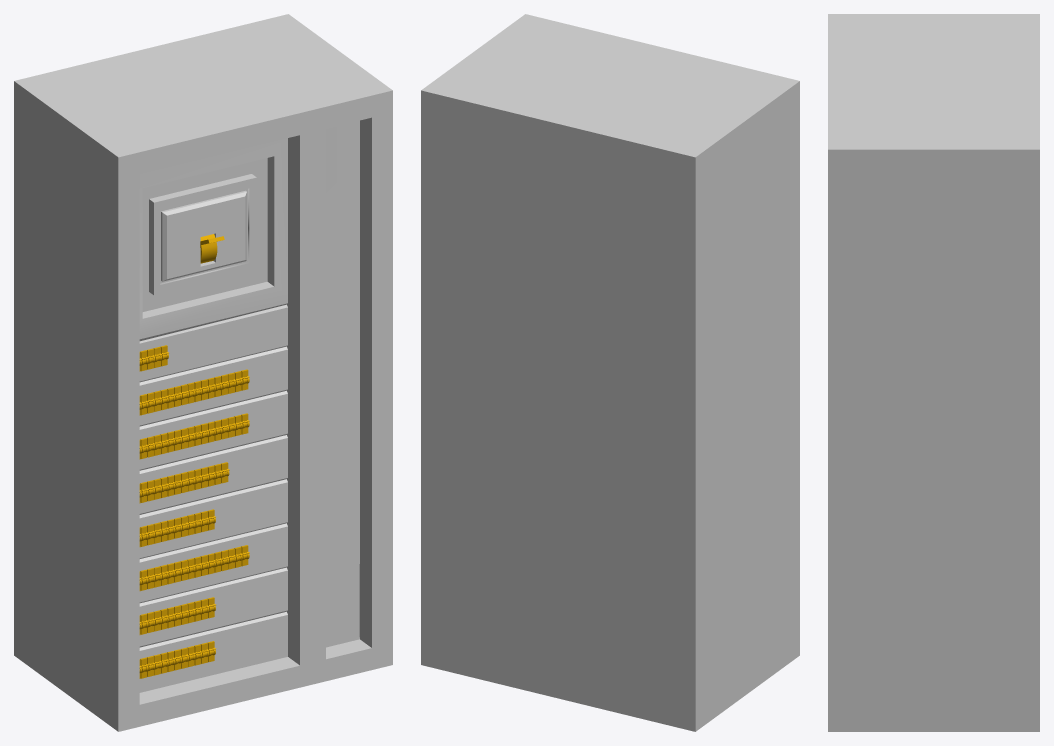
File: S_Disjoncteur2.fbx
The picture shows the model from 3 angles, left to right: view 1: azimuth 30°, elevation 25°; view 2: azimuth 150°, elevation 25°; view 3: azimuth 270°, elevation 25°; orthographic projection.
Visible parts, largest first — view 1: 001.003, 001.004, Cube.082, Cube.081, Cube.083, Cube.080; view 2: 001.003, 001.004; view 3: 001.003, 001.004.
Boxes of the visible parts, box(x1,y1,x2,y2) form: 001.003: box(14, 14, 379, 722); 001.004: box(105, 81, 392, 731); Cube.082: box(139, 369, 249, 591); Cube.081: box(139, 509, 216, 678); Cube.083: box(139, 462, 229, 503); Cube.080: box(139, 345, 168, 371); 001.003: box(421, 23, 787, 731); 001.004: box(512, 14, 799, 663); 001.003: box(852, 14, 1039, 731); 001.004: box(828, 14, 854, 731).
Size of the model in its own units: 150 by 300 by 98.86.
